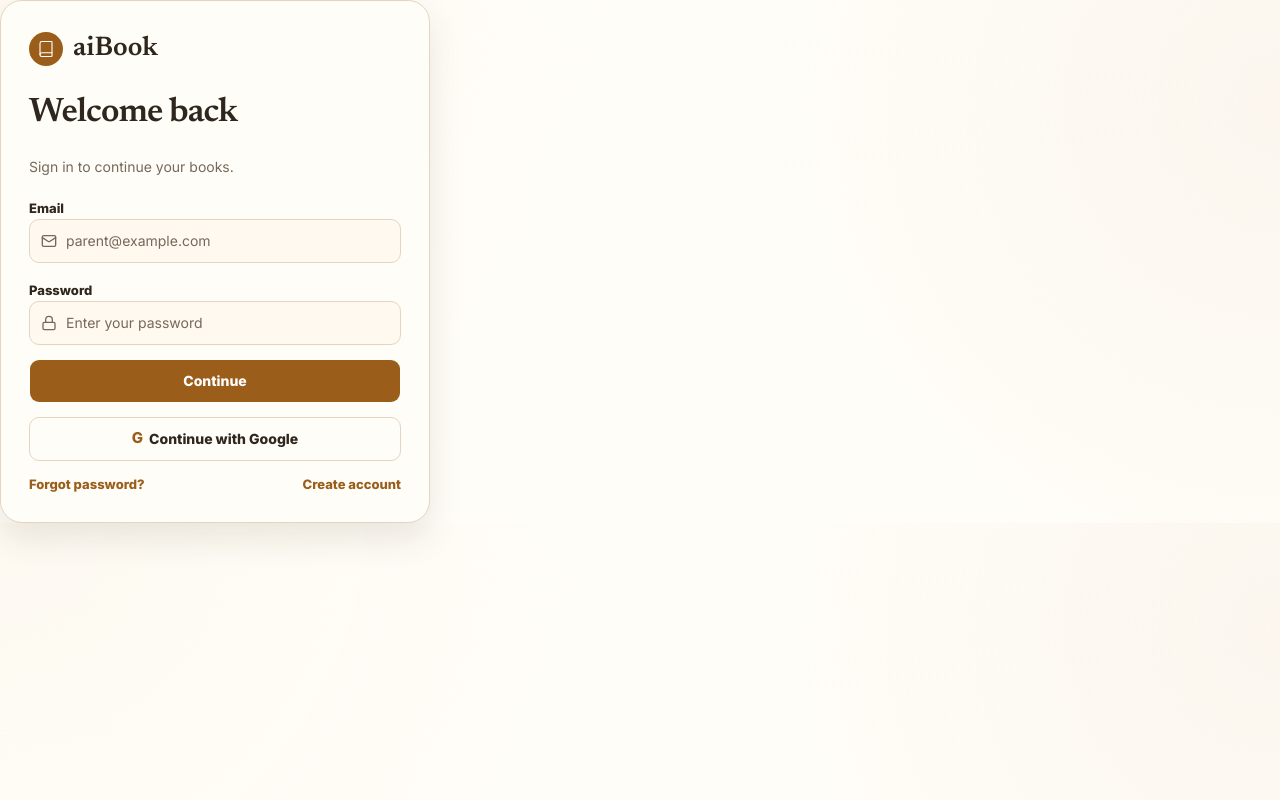
Test case: auth pages › shows inline validation when login fields are empty
Click the button "Continue" at (215, 380), box [29,358,401,402]
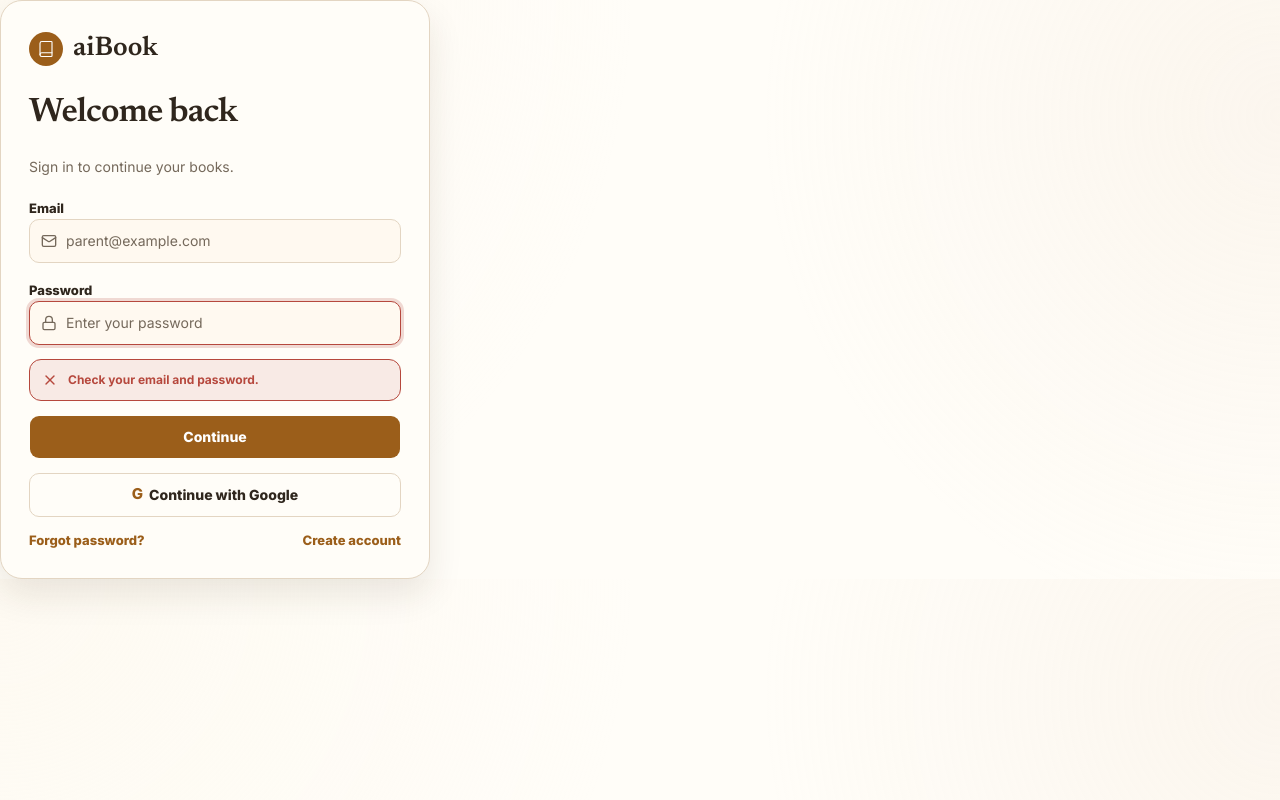
Now the text "Check your email and password." is shown, box [68,372,259,388]
